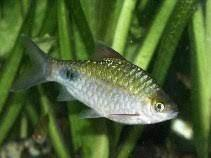Black Spotted Barb: (8, 33, 180, 124)
